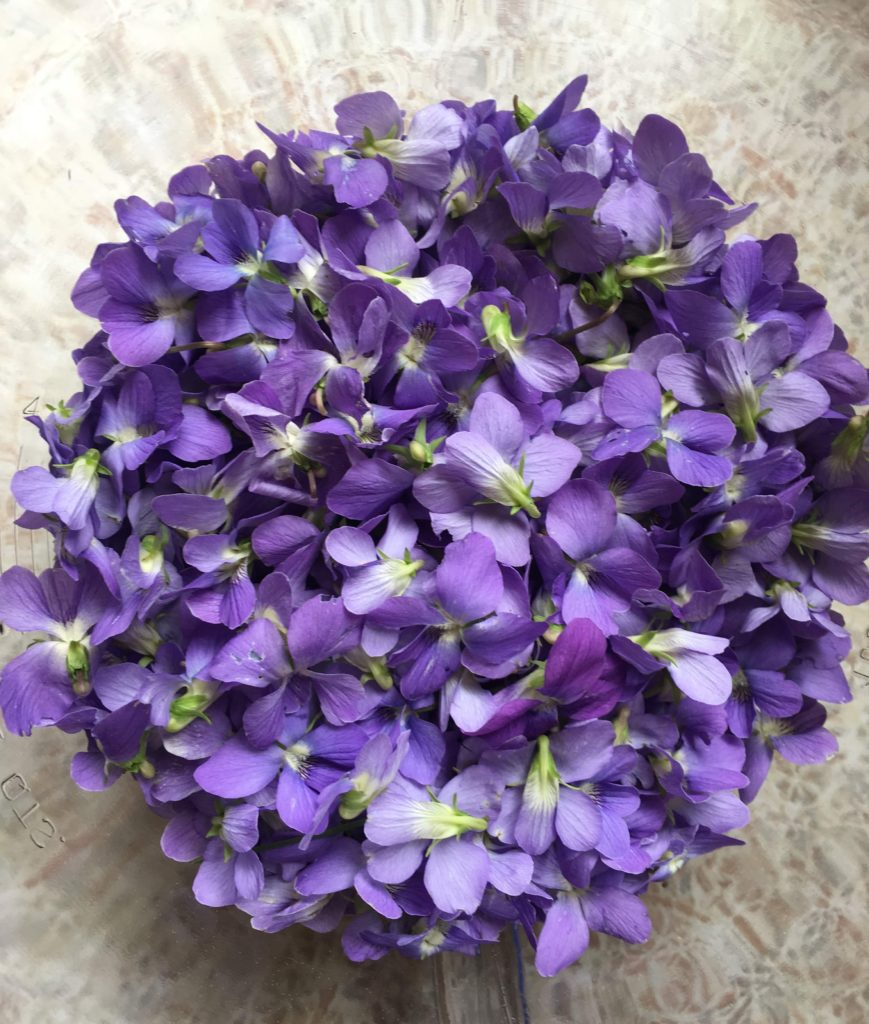violet: (71, 88, 866, 954)
